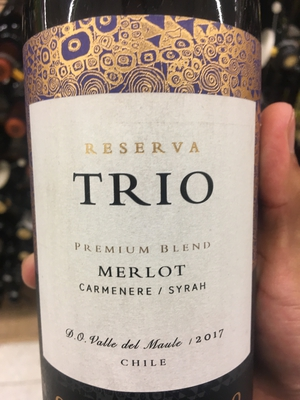trio merlot: (20, 21, 266, 400)
